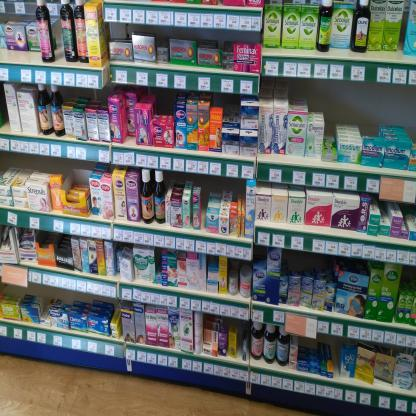Void: (324, 82, 415, 127), (288, 252, 334, 276), (48, 10, 61, 64), (404, 265, 415, 295), (108, 25, 130, 38), (156, 96, 172, 112), (126, 134, 134, 148)
